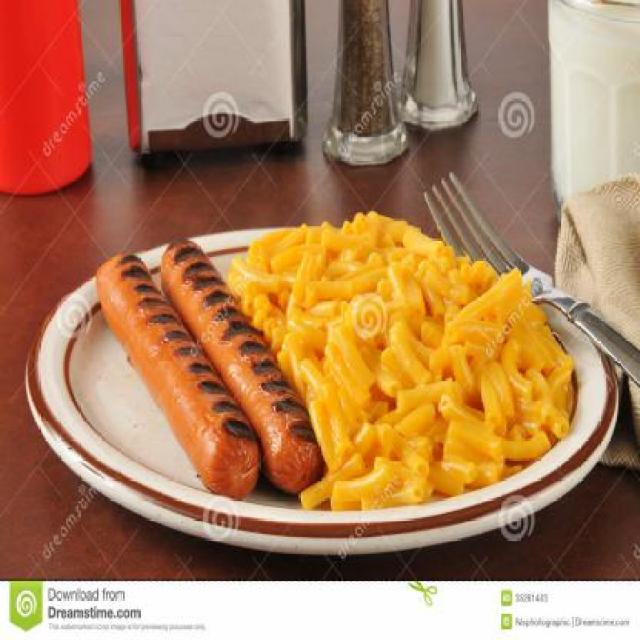hot dog: (90, 235, 316, 496)
macaroni and cheese: (249, 206, 574, 523)
